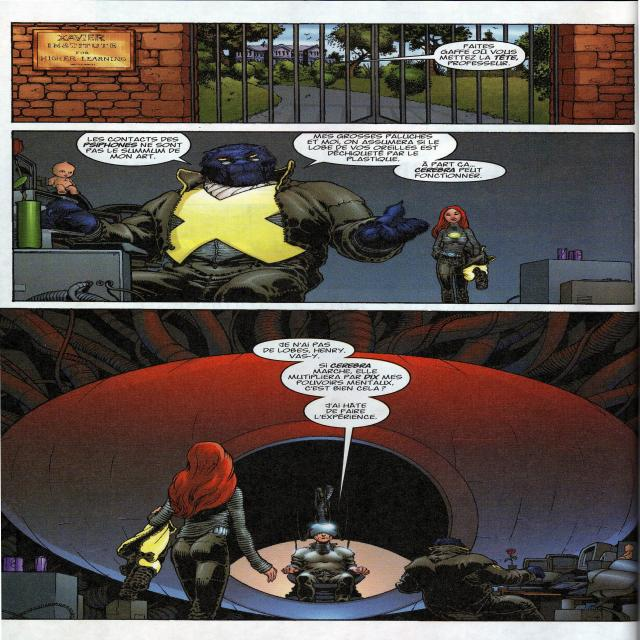comic_panel: (0, 307, 640, 622), (12, 130, 635, 305), (9, 22, 635, 125)
